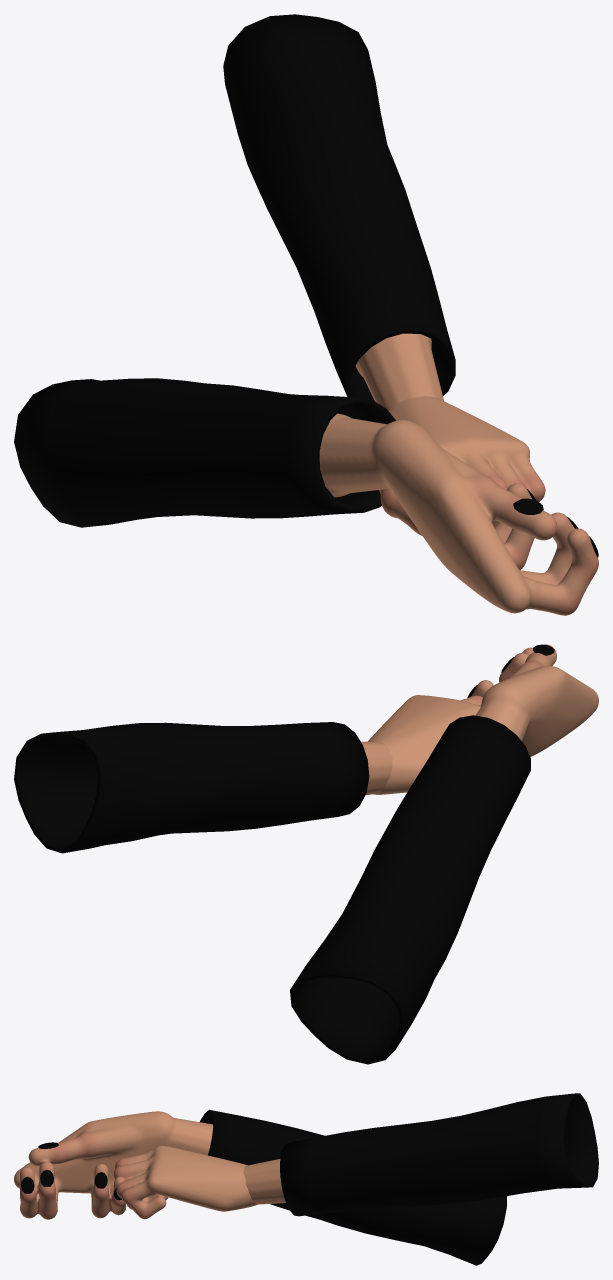
Rendered from hands.glb.
3 views of the same model, one above another, from view 1: azimuth 30°, elevation 25°; view 2: azimuth 150°, elevation 25°; view 3: azimuth 270°, elevation 25° (orthographic). The views are drawn at different scales.
Parts seen in each view (by area): view 1: HandR, ArmL, HandL; view 2: HandR, ArmL, HandL; view 3: ArmL, HandR, HandL.
Part boxes in pixels (bbox=[...]): HandR: bbox=[14, 378, 598, 615]; ArmL: bbox=[223, 14, 455, 409]; HandL: bbox=[379, 396, 545, 535]; HandR: bbox=[290, 644, 598, 1064]; ArmL: bbox=[14, 722, 392, 853]; HandL: bbox=[368, 695, 482, 794]; ArmL: bbox=[243, 1093, 598, 1216]; HandR: bbox=[14, 1109, 507, 1265]; HandL: bbox=[113, 1145, 257, 1219].
Size of the model in its own units: 0.2961 by 0.2669 by 0.5665.
